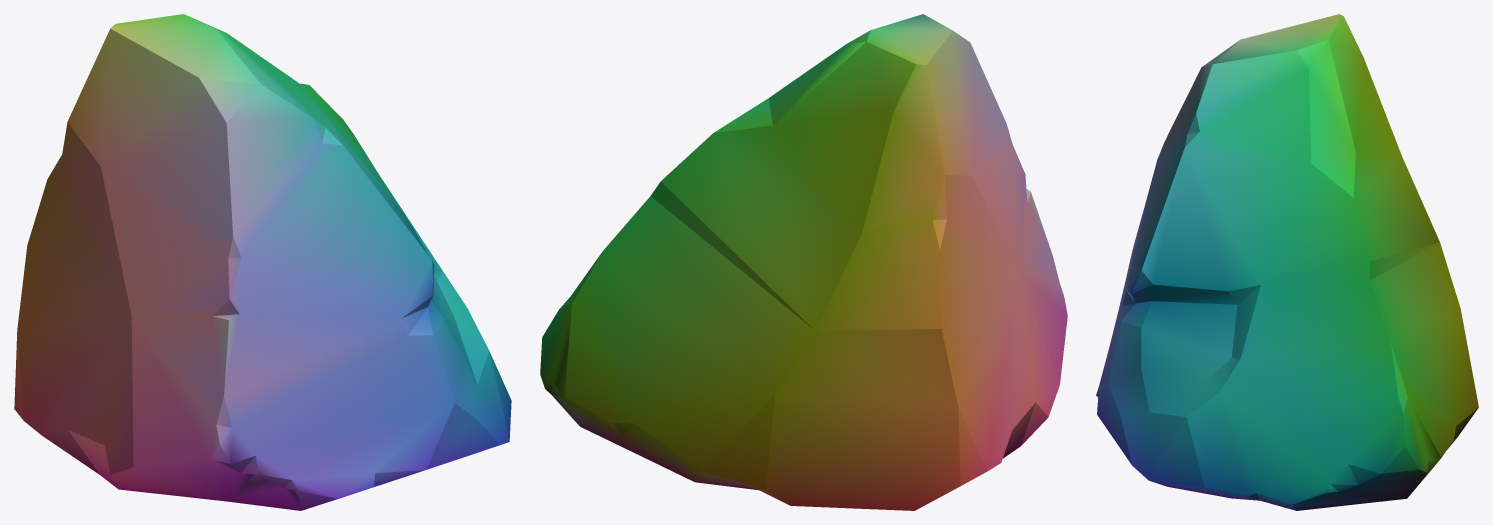
3 views of the same model, side by side, from view 1: azimuth 30°, elevation 25°; view 2: azimuth 150°, elevation 25°; view 3: azimuth 270°, elevation 25° (orthographic). The views are drawn at different scales.
Visible parts, largest first — view 1: st_gc_032_lod0; view 2: st_gc_032_lod0; view 3: st_gc_032_lod0.
Part boxes in pixels (x1,y1,x2,y2): st_gc_032_lod0: (14, 14, 511, 510); st_gc_032_lod0: (540, 14, 1067, 510); st_gc_032_lod0: (1096, 14, 1478, 510).
Size of what is drawn, in the model's own units: 213 by 195 by 190.
